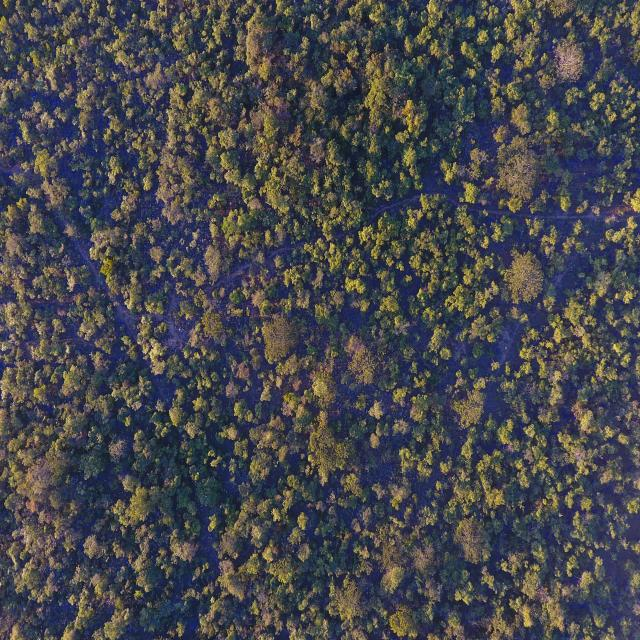boundaries: (339, 184, 428, 239)
